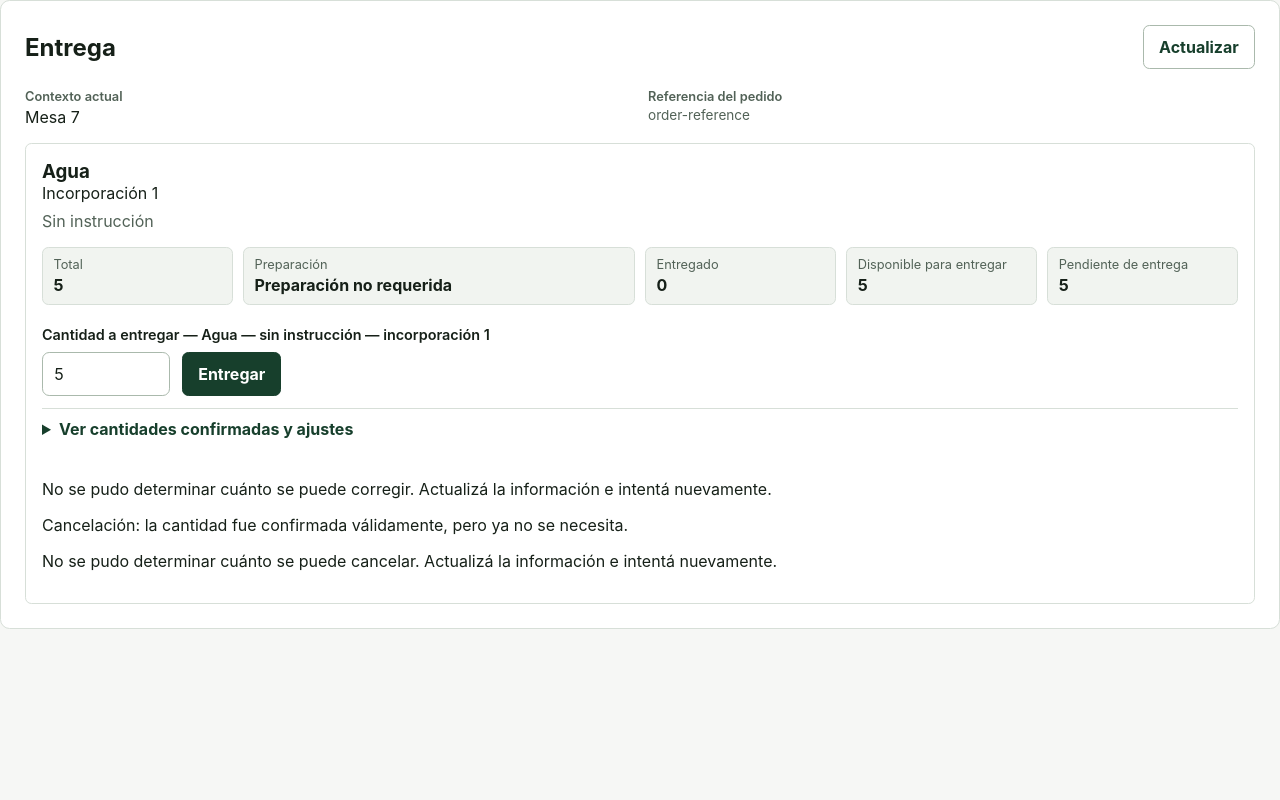
Test case: DeliveryPanel › distinguishes an explicit idempotency conflict
Expected: the heading "Agua" is shown, 42,160 -> 90,183
Click the button "Entregar". click: [232, 374]
box: 182,352 -> 282,396
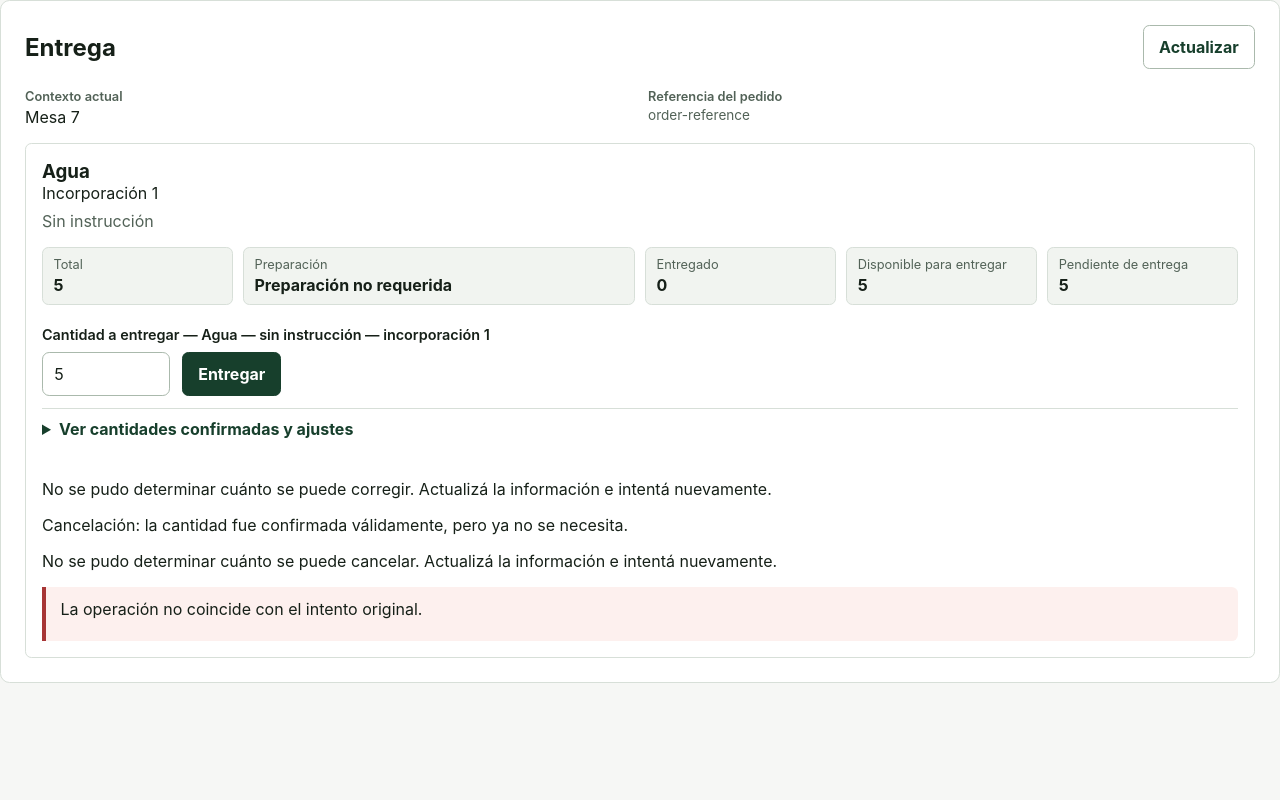
Result: the text "La operación no coincide con el intento original." is shown at 60,599 -> 422,619
